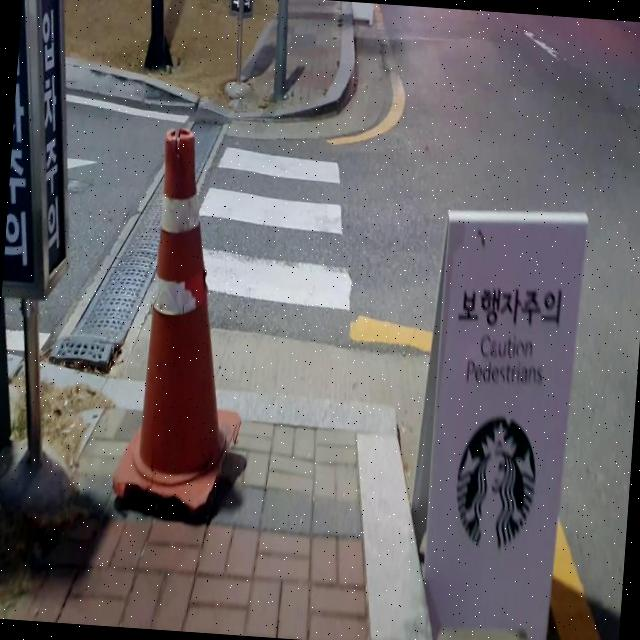crosswalk: (196, 134, 355, 312)
